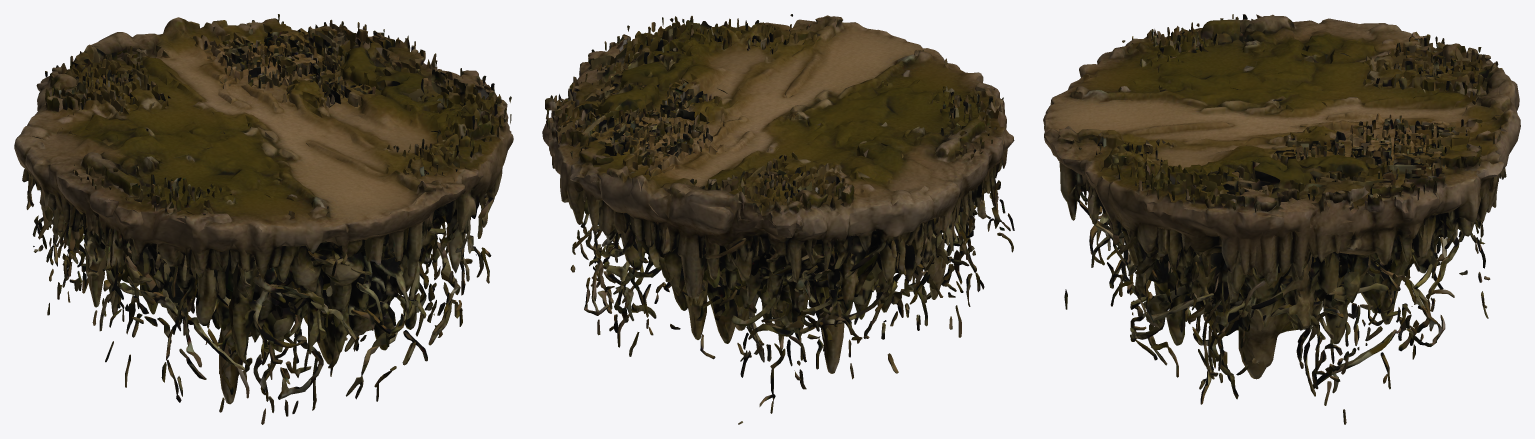
Rendered from island_base_main2.glb.
The picture shows the model from 3 angles, left to right: view 1: azimuth 30°, elevation 25°; view 2: azimuth 150°, elevation 25°; view 3: azimuth 270°, elevation 25°; orthographic projection. The views are drawn at different scales.
Visible parts, largest first — view 1: world_0; view 2: world_0; view 3: world_0.
Part boxes in pixels (box(x1,y1,x2,y2)): world_0: box(14, 14, 513, 424); world_0: box(542, 14, 1014, 424); world_0: box(1043, 14, 1520, 424).
Bounding box in the file's own units: 1.98 × 1.3 × 1.97.
1 material, 1 textured.
